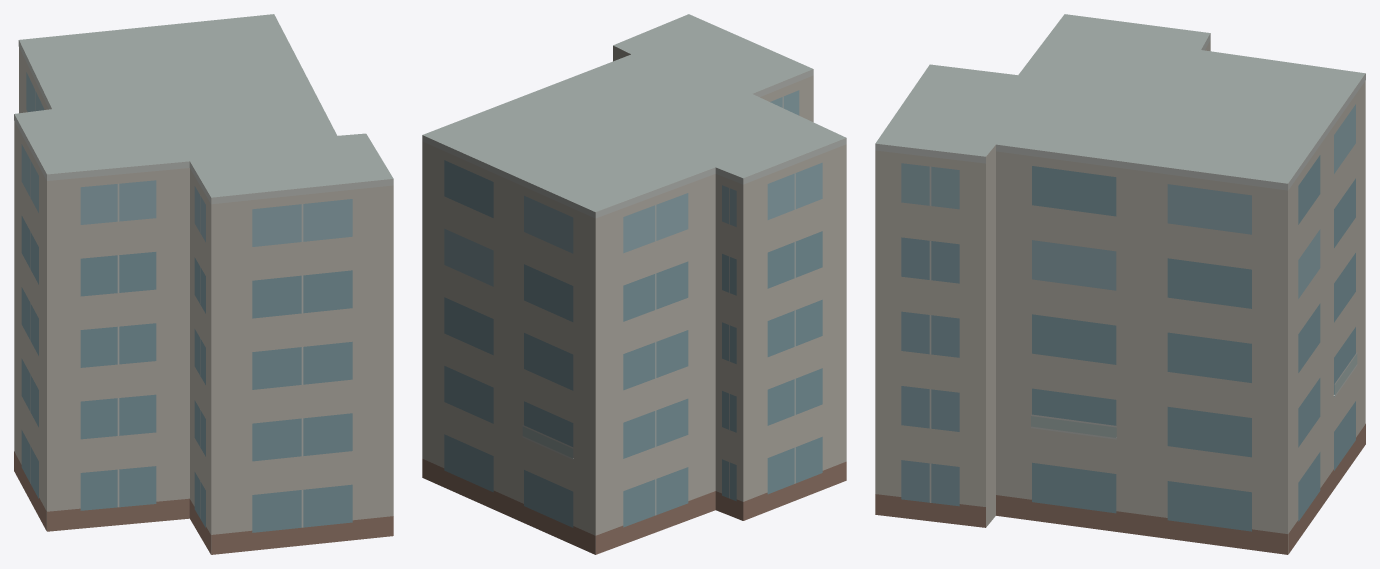
Rendered from survey-upis-32592604.glb.
3 views of the same model, side by side, from view 1: azimuth 30°, elevation 25°; view 2: azimuth 150°, elevation 25°; view 3: azimuth 270°, elevation 25° (orthographic). The views are drawn at different scales.
Parts seen in each view (by area): view 1: survey-upis-32592604.tmp; view 2: survey-upis-32592604.tmp; view 3: survey-upis-32592604.tmp.
Part boxes in pixels (box(x1,y1,x2,y2)): survey-upis-32592604.tmp: box(14, 14, 393, 554); survey-upis-32592604.tmp: box(422, 14, 846, 554); survey-upis-32592604.tmp: box(875, 14, 1365, 554).
Bounding box in the file's own units: 12.96 × 13.2 × 15.82.
